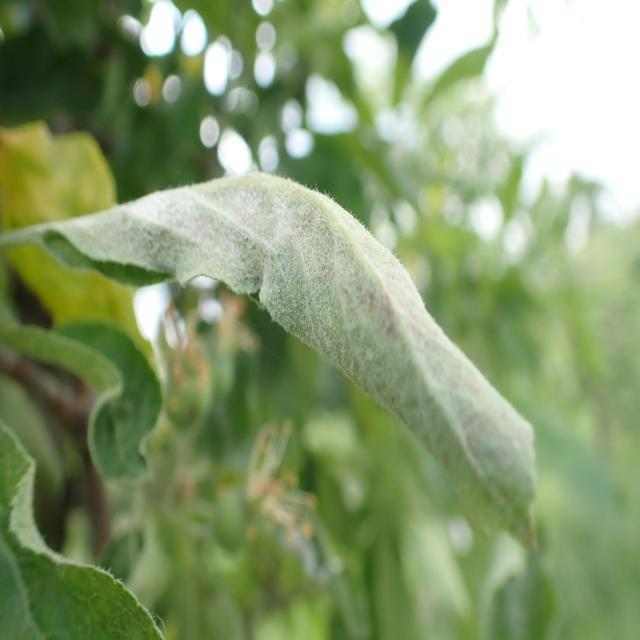Powdery_mildew: (21, 130, 553, 551)
